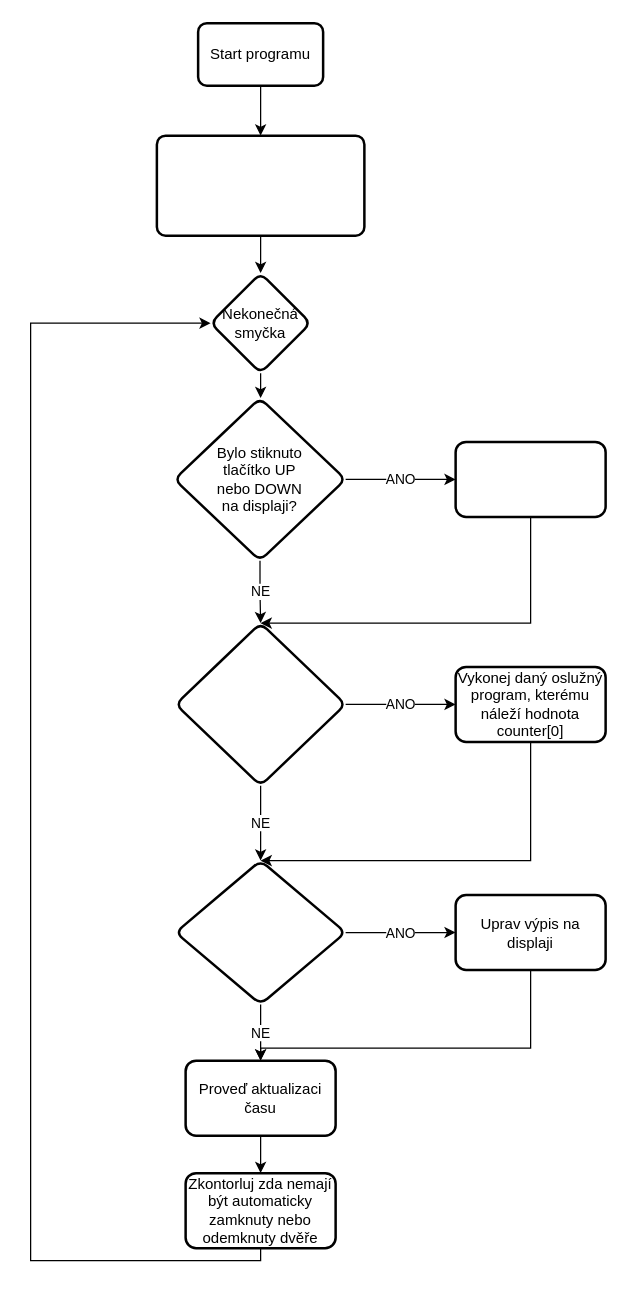
Image size: 629x1293. Some labels were removed from this diagram. Here are the shapes that lost their labels. From the top down, the centre of each, then its label:
At (260,185): "Import knihoven Nastavení hlavních proměnných Nastavení času, ...".
At (530,479): "Zvyš nebo sniž o jedno proměnnou counter[0]".
At (260,703): "Bylo stisknuto tlačítko RIGHT na displaji?".
At (260,932): "Byla změněna hodnota counter[0]".
